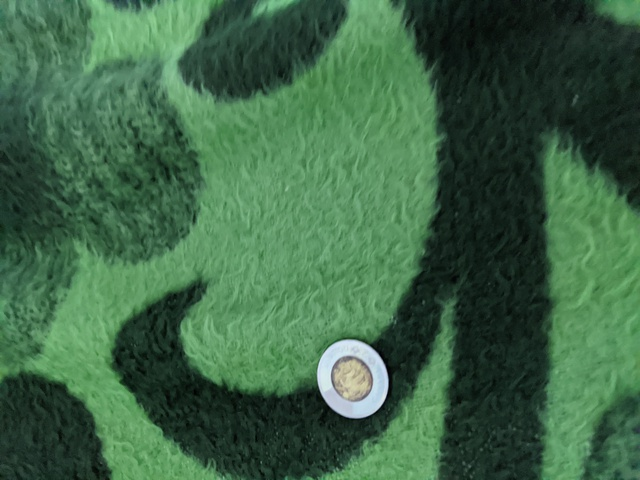twonie: (297, 327, 400, 432)
